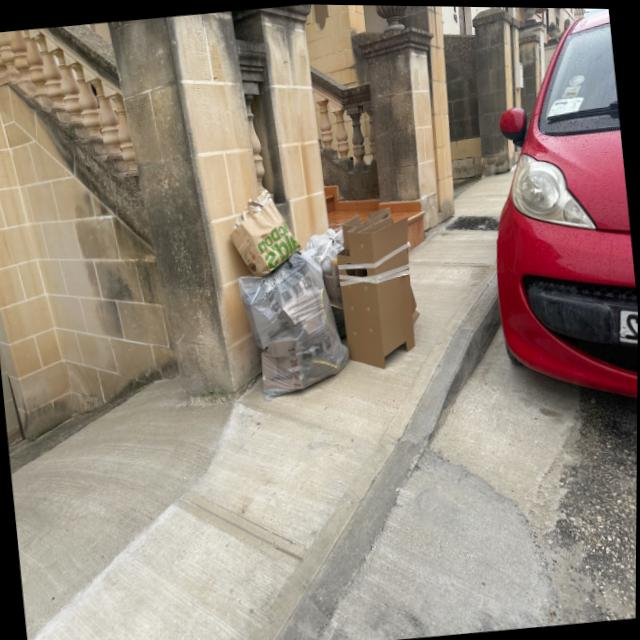Others Waste: (336, 206, 420, 366), (230, 187, 302, 276)
Recyclable Material -Grey Bags-: (237, 224, 349, 402)
